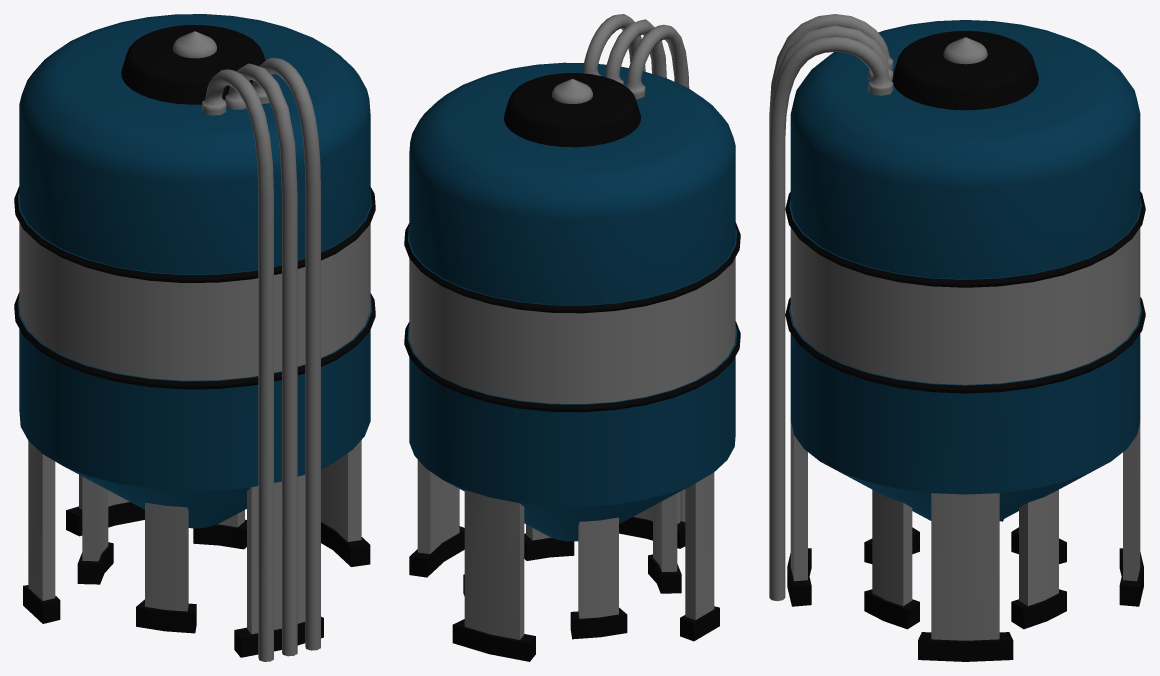
File: water_tower_1.fbx
3 renders of one model, left to right at view 1: azimuth 30°, elevation 25°; view 2: azimuth 150°, elevation 25°; view 3: azimuth 270°, elevation 25°, orthographic. The views are drawn at different scales.
Parts seen in each view (by area): view 1: Circle.029, BezierCurve; view 2: Circle.029, BezierCurve; view 3: Circle.029, BezierCurve.
Part boxes in pixels (<box>): Circle.029: <box>14,14,375,657</box>; BezierCurve: <box>202,58,320,661</box>; Circle.029: <box>404,62,740,661</box>; BezierCurve: <box>582,14,689,522</box>; Circle.029: <box>785,20,1145,661</box>; BezierCurve: <box>769,14,893,601</box>.
Size of the model in its own units: 430 by 739 by 449.
